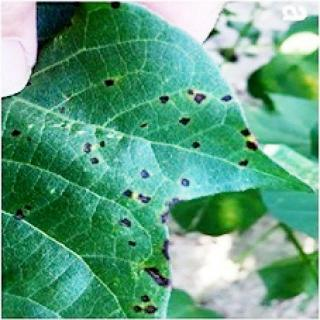blight: (91, 39, 257, 320)
